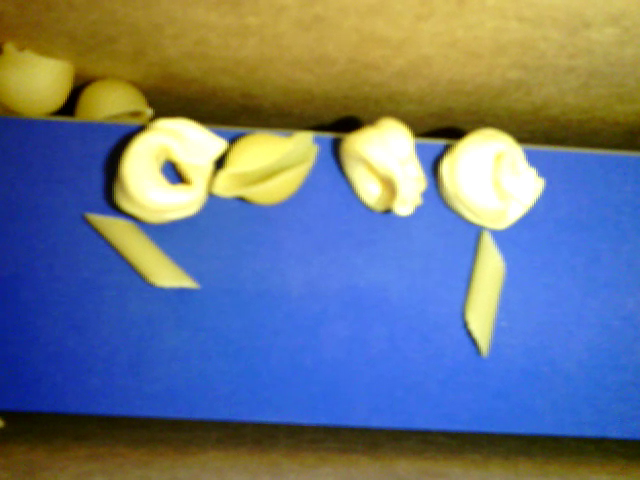penne: (85, 215, 198, 288), (463, 229, 505, 357)
shell: (212, 131, 319, 205), (1, 42, 72, 118), (75, 79, 151, 125)
tortellini: (113, 117, 227, 223), (437, 127, 545, 230), (339, 117, 427, 216)
